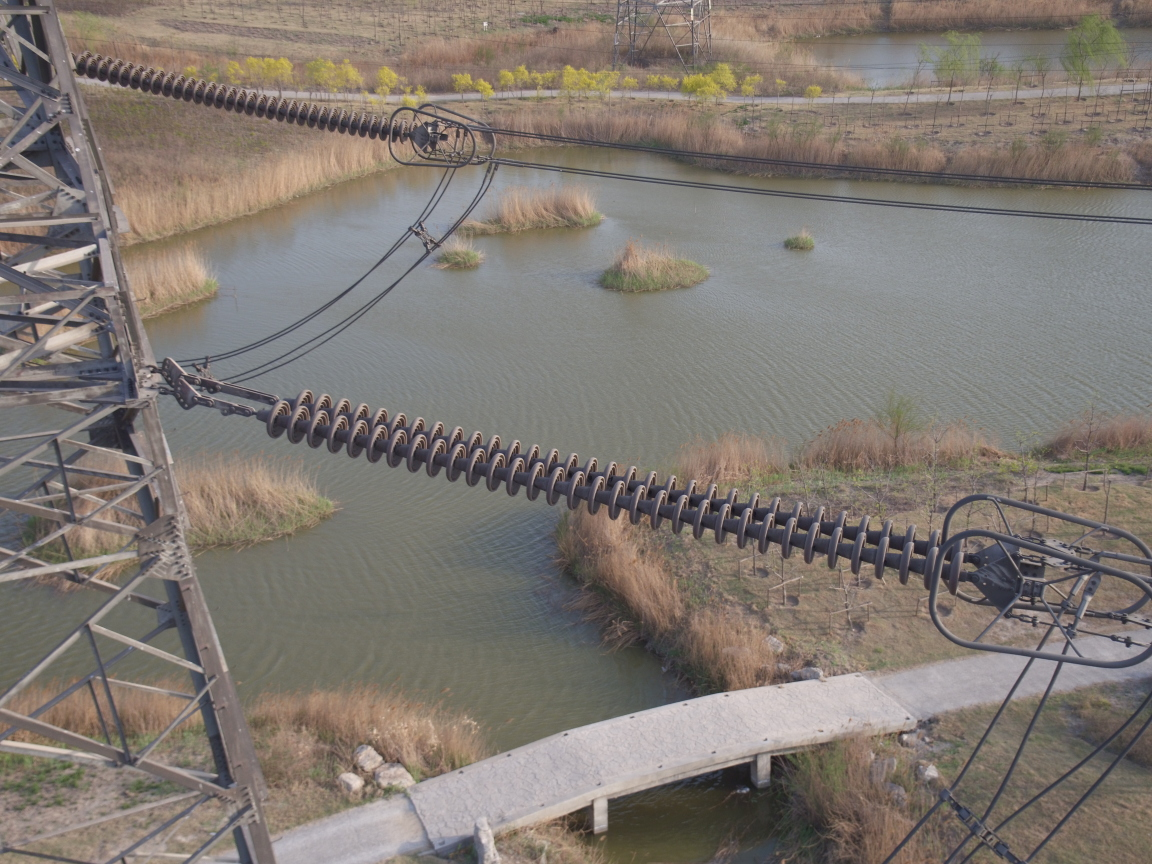insulator: (237, 381, 991, 597), (73, 48, 422, 147)
